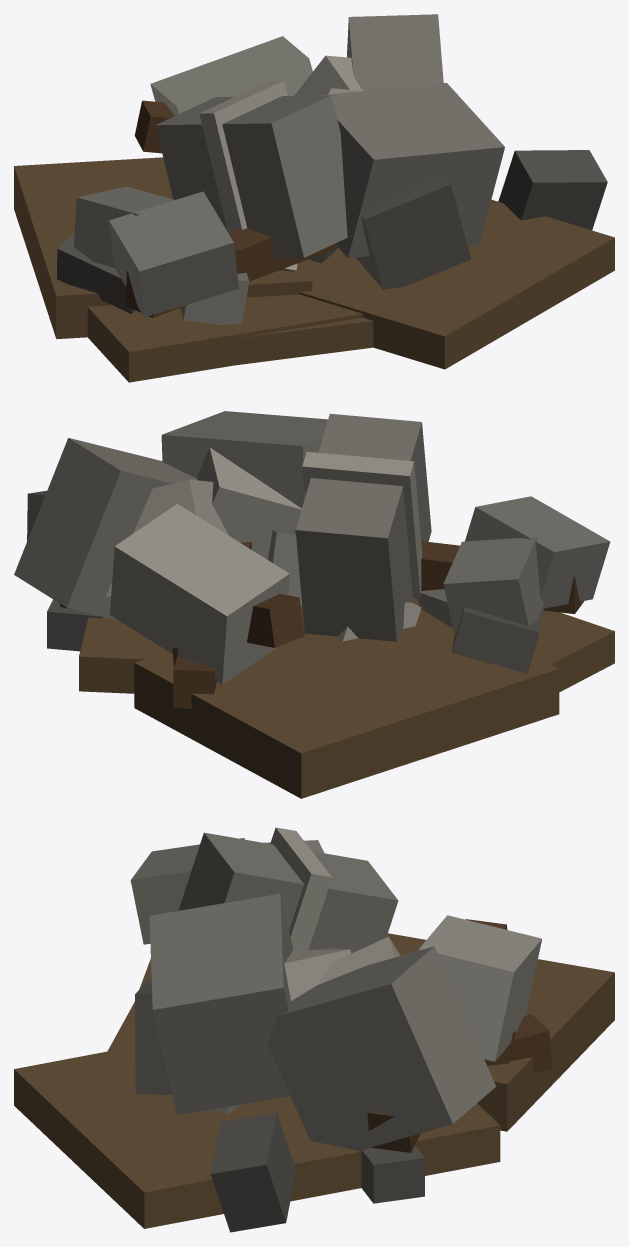
The model's file is rubble_pile.glb.
3 views of the same model, one above another, from view 1: azimuth 30°, elevation 25°; view 2: azimuth 150°, elevation 25°; view 3: azimuth 270°, elevation 25° (orthographic). The views are drawn at different scales.
Visible parts, largest first — view 1: stone, dirt, stone_dark, stone_light, timber; view 2: stone, dirt, stone_light, stone_dark, timber; view 3: stone, dirt, stone_light, stone_dark, timber.
Part boxes in pixels (bbox=[...]): stone: bbox=[74, 14, 504, 324]; dirt: bbox=[14, 157, 614, 382]; stone_dark: bbox=[57, 150, 607, 314]; stone_light: bbox=[150, 36, 362, 271]; timber: bbox=[126, 100, 338, 317]; stone: bbox=[14, 411, 610, 641]; dirt: bbox=[79, 597, 614, 798]; stone_light: bbox=[105, 447, 422, 684]; stone_dark: bbox=[27, 490, 543, 673]; timber: bbox=[60, 541, 584, 708]; stone: bbox=[130, 832, 495, 1150]; dirt: bbox=[14, 933, 614, 1228]; stone_light: bbox=[270, 827, 541, 1061]; stone_dark: bbox=[135, 977, 424, 1232]; timber: bbox=[367, 919, 552, 1152].
Size of the model in its own units: 40.16 by 16.03 by 36.45.
